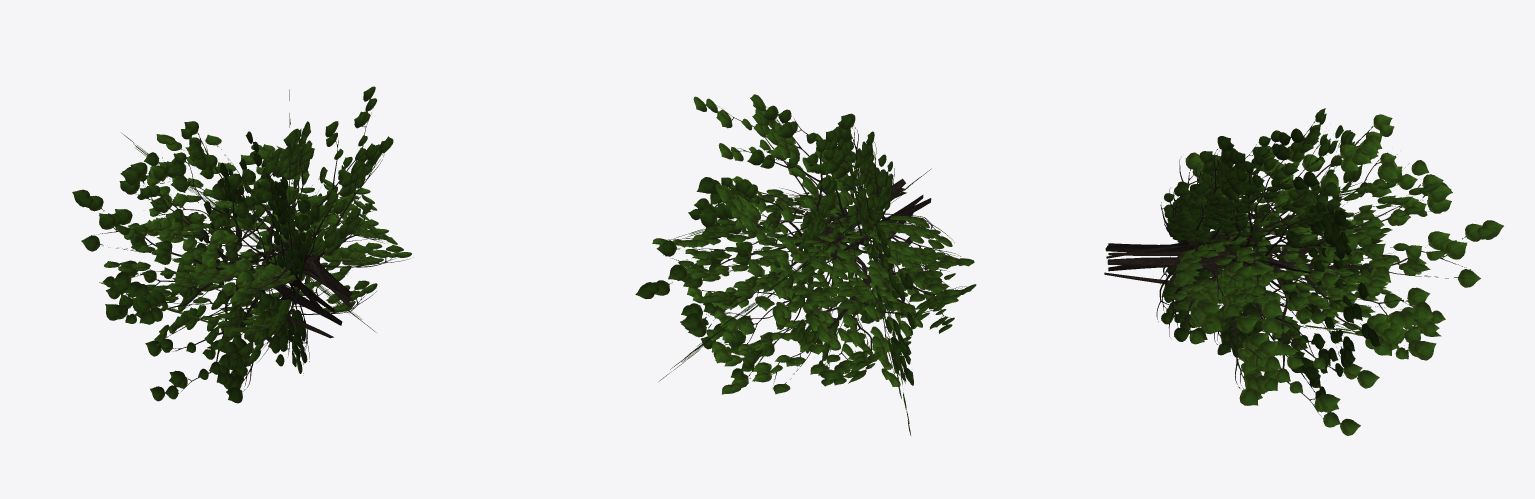
The model's file is Bush_05.FBX.
3 views of the same model, side by side, from view 1: azimuth 30°, elevation 25°; view 2: azimuth 150°, elevation 25°; view 3: azimuth 270°, elevation 25° (orthographic). The views are drawn at different scales.
Parts seen in each view (by area): view 1: Bush_05; view 2: Bush_05; view 3: Bush_05.
Boxes of the visible parts, left/top/right/bottom form: Bush_05: left=72, top=86, right=413, bottom=403; Bush_05: left=635, top=94, right=976, bottom=435; Bush_05: left=1104, top=108, right=1503, bottom=435.
Size of the model in its own units: 47.48 by 46.06 by 43.08.
